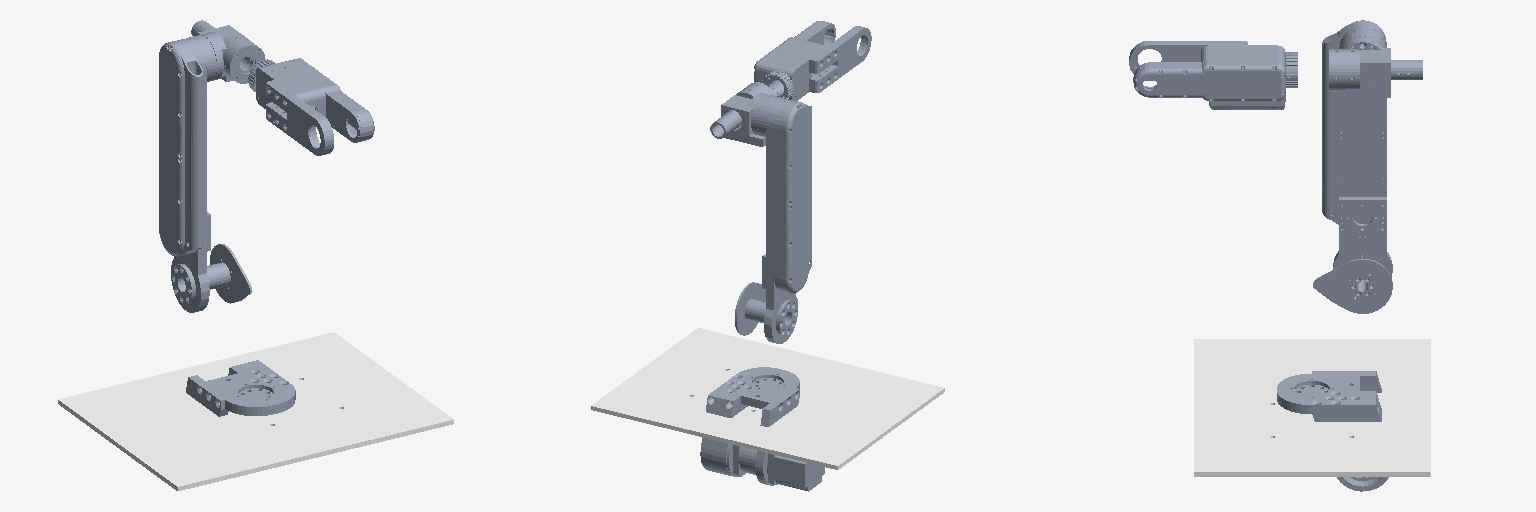
The robot description file, URDF, robot "AR3 Main Assembly.SLDASM":
<?xml version="1.0" encoding="utf-8"?>
<!-- This URDF was automatically created by SolidWorks to URDF Exporter! Originally created by [author] ([email redacted]) 
     Commit Version: 1.5.1-0-g916b5db  Build Version: 1.5.7152.31018
     For more information, please see http://wiki.ros.org/sw_urdf_exporter -->
<robot
  name="AR3 Main Assembly.SLDASM">
  <link
    name="base_link">
    <inertial>
      <origin
        xyz="-1.15397205339578E-05 -0.10213687957753 0.0256683807735144"
        rpy="0 0 0" />
      <mass
        value="0.66695527839868" />
      <inertia
        ixx="0.00200785375472586"
        ixy="8.95894771130559E-07"
        ixz="-4.55457901869508E-07"
        iyy="0.0015409663357719"
        iyz="5.63870746638961E-05"
        izz="0.00329186572157014" />
    </inertial>
    <visual>
      <origin
        xyz="0 0 0"
        rpy="0 0 0" />
      <geometry>
        <mesh
          filename="package://arm_description/meshes/base_link.STL" />
      </geometry>
      <material
        name="">
        <color
          rgba="1 1 1 1" />
      </material>
    </visual>
    <collision>
      <origin
        xyz="0 0 0"
        rpy="0 0 0" />
      <geometry>
        <mesh
          filename="package://arm_description/meshes/base_link.STL" />
      </geometry>
    </collision>
  </link>
  <link
    name="Link1">
    <inertial>
      <origin
        xyz="0.032141 -0.0063693 -0.020838"
        rpy="0 0 0" />
      <mass
        value="0.51011" />
      <inertia
        ixx="0.00048671"
        ixy="-4.2616E-06"
        ixz="3.5903E-05"
        iyy="0.00065864"
        iyz="2.2456E-06"
        izz="0.0005653" />
    </inertial>
    <visual>
      <origin
        xyz="0 0 0"
        rpy="0 0 0" />
      <geometry>
        <mesh
          filename="package://arm_description/meshes/Link1.STL" />
      </geometry>
      <material
        name="">
        <color
          rgba="0.66667 0.69804 0.76863 1" />
      </material>
    </visual>
    <collision>
      <origin
        xyz="0 0 0"
        rpy="0 0 0" />
      <geometry>
        <mesh
          filename="package://arm_description/meshes/Link1.STL" />
      </geometry>
    </collision>
  </link>
  <joint
    name="J1"
    type="revolute">
    <origin
      xyz="0 0 0.0867"
      rpy="3.1416 0 1.5708" />
    <parent
      link="base_link" />
    <child
      link="Link1" />
    <axis
      xyz="0 0 0" />
    <limit
      lower="0"
      upper="0"
      effort="0"
      velocity="0" />
    <calibration
      rising="0"
      falling="0" />
    <dynamics
      damping="0"
      friction="0" />
  </joint>
  <link
    name="Link2">
    <inertial>
      <origin
        xyz="0.073915 -0.12309 -0.055771"
        rpy="0 0 0" />
      <mass
        value="0.48644" />
      <inertia
        ixx="0.0020311"
        ixy="0.001049"
        ixz="1.671E-07"
        iyy="0.00083377"
        iyz="-8.3072E-08"
        izz="0.0028232" />
    </inertial>
    <visual>
      <origin
        xyz="0 0 0"
        rpy="0 0 0" />
      <geometry>
        <mesh
          filename="package://arm_description/meshes/Link2.STL" />
      </geometry>
      <material
        name="">
        <color
          rgba="0.66667 0.69804 0.76863 1" />
      </material>
    </visual>
    <collision>
      <origin
        xyz="0 0 0"
        rpy="0 0 0" />
      <geometry>
        <mesh
          filename="package://arm_description/meshes/Link2.STL" />
      </geometry>
    </collision>
  </link>
  <joint
    name="J2"
    type="revolute">
    <origin
      xyz="0.064146 -0.007968 -0.083075"
      rpy="1.5708 0.5236 3.1416" />
    <parent
      link="Link1" />
    <child
      link="Link2" />
    <axis
      xyz="0 0 0" />
    <limit
      lower="0"
      upper="0"
      effort="0"
      velocity="0" />
    <calibration
      rising="0"
      falling="0" />
    <dynamics
      damping="0"
      friction="0" />
  </joint>
  <link
    name="Link_3">
    <inertial>
      <origin
        xyz="0.0025798 -0.0023719 -0.022728"
        rpy="0 0 0" />
      <mass
        value="0.18704" />
      <inertia
        ixx="8.3768E-05"
        ixy="-1.3684E-05"
        ixz="1.0512E-06"
        iyy="6.8019E-05"
        iyz="1.9471E-06"
        izz="9.213E-05" />
    </inertial>
    <visual>
      <origin
        xyz="0 0 0"
        rpy="0 0 0" />
      <geometry>
        <mesh
          filename="package://arm_description/meshes/Link_3.STL" />
      </geometry>
      <material
        name="">
        <color
          rgba="0.66667 0.69804 0.76863 1" />
      </material>
    </visual>
    <collision>
      <origin
        xyz="0 0 0"
        rpy="0 0 0" />
      <geometry>
        <mesh
          filename="package://arm_description/meshes/Link_3.STL" />
      </geometry>
    </collision>
  </link>
  <joint
    name="J3"
    type="revolute">
    <origin
      xyz="0.1525 -0.26414 -0.028745"
      rpy="3.1416 0 1.5708" />
    <parent
      link="Link2" />
    <child
      link="Link_3" />
    <axis
      xyz="0 0 0" />
    <limit
      lower="0"
      upper="0"
      effort="0"
      velocity="0" />
    <calibration
      rising="0"
      falling="0" />
    <dynamics
      damping="0"
      friction="0" />
  </joint>
  <link
    name="Link4">
    <inertial>
      <origin
        xyz="-0.0035824 -0.0010284 -0.13567"
        rpy="0 0 0" />
      <mass
        value="0.31861" />
      <inertia
        ixx="0.00058207"
        ixy="2.2241E-06"
        ixz="-4.6259E-06"
        iyy="0.00052299"
        iyz="1.481E-05"
        izz="0.00011295" />
    </inertial>
    <visual>
      <origin
        xyz="0 0 0"
        rpy="0 0 0" />
      <geometry>
        <mesh
          filename="package://arm_description/meshes/Link4.STL" />
      </geometry>
      <material
        name="">
        <color
          rgba="0.66667 0.69804 0.76863 1" />
      </material>
    </visual>
    <collision>
      <origin
        xyz="0 0 0"
        rpy="0 0 0" />
      <geometry>
        <mesh
          filename="package://arm_description/meshes/Link4.STL" />
      </geometry>
    </collision>
  </link>
  <joint
    name="J4"
    type="revolute">
    <origin
      xyz="0.011681 0.020231 -0.0367"
      rpy="1.0472 -1.5708 0" />
    <parent
      link="Link_3" />
    <child
      link="Link4" />
    <axis
      xyz="0 0 0" />
    <limit
      lower="0"
      upper="0"
      effort="0"
      velocity="0" />
    <calibration
      rising="0"
      falling="0" />
    <dynamics
      damping="0"
      friction="0" />
  </joint>
</robot>

--- Render facts (derived) ---
The picture shows the robot from 3 angles, left to right: view 1: azimuth 30°, elevation 25°; view 2: azimuth 150°, elevation 25°; view 3: azimuth 270°, elevation 25°; orthographic projection.
Robot: AR3 Main Assembly.SLDASM — 5 links, 4 joints (4 revolute); root link base_link; default pose: all joints at 0.
Visible links, largest first — view 1: base_link, Link2, Link4, Link1, Link_3; view 2: base_link, Link2, Link1, Link4, Link_3; view 3: base_link, Link2, Link4, Link1, Link_3.
Link boxes in pixels (x1,y1,x2,y2): base_link: (58, 332, 453, 490); Link2: (159, 37, 251, 312); Link4: (223, 34, 374, 155); Link1: (186, 360, 295, 416); Link_3: (189, 20, 265, 83); base_link: (591, 328, 944, 469); Link2: (735, 98, 811, 343); Link1: (700, 367, 824, 491); Link4: (736, 21, 871, 100); Link_3: (710, 82, 780, 146); base_link: (1194, 339, 1430, 476); Link2: (1313, 20, 1392, 313); Link4: (1129, 41, 1359, 109); Link1: (1277, 371, 1388, 491); Link_3: (1329, 31, 1422, 97).
Bounding box of the posed robot: 0.4 × 0.3813 × 0.5951 m (x, y, z).
Meshes: 5 distinct files referenced, 5 mesh visuals loaded (5 binary STL).